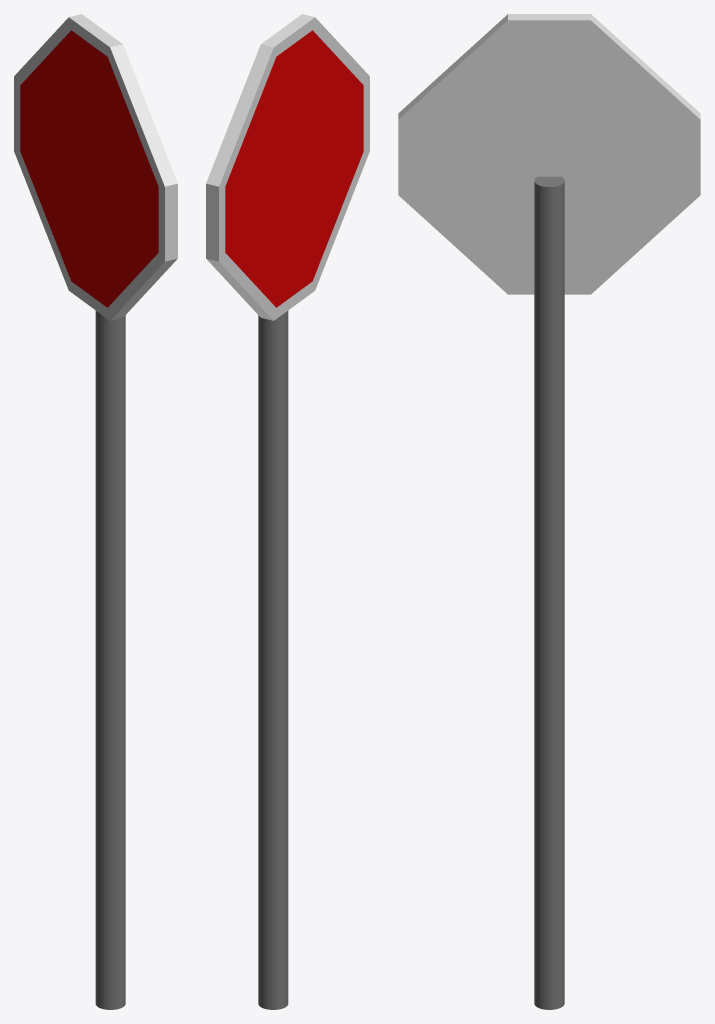
Rendered from StopSign.fbx.
3 views of the same model, side by side, from view 1: azimuth 30°, elevation 25°; view 2: azimuth 150°, elevation 25°; view 3: azimuth 270°, elevation 25° (orthographic).
Parts seen in each view (by area): view 1: Cube; view 2: Cube; view 3: Cube.
Boxes of the visible parts, x1,y1,x2,y2 form: Cube: (14,14,177,1009); Cube: (206,14,369,1009); Cube: (398,14,700,1009).
Size of the model in its own units: 23.74 by 647 by 181.
